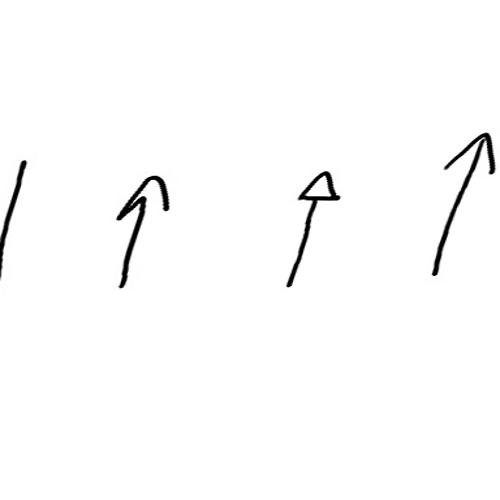arrow: (430, 131, 495, 278), (110, 175, 171, 289), (283, 169, 338, 286), (3, 160, 26, 282)
